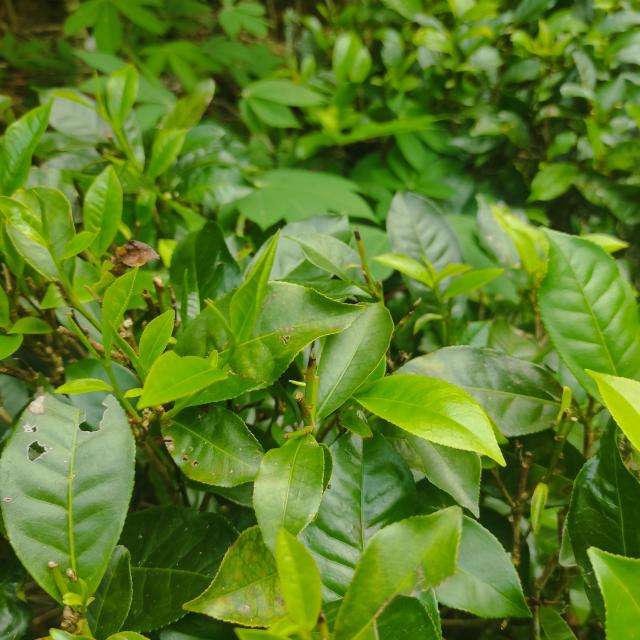unopened_leaf: (202, 294, 239, 350), (28, 185, 54, 242), (90, 62, 110, 122), (555, 379, 578, 425), (73, 573, 93, 615), (419, 254, 440, 288)
